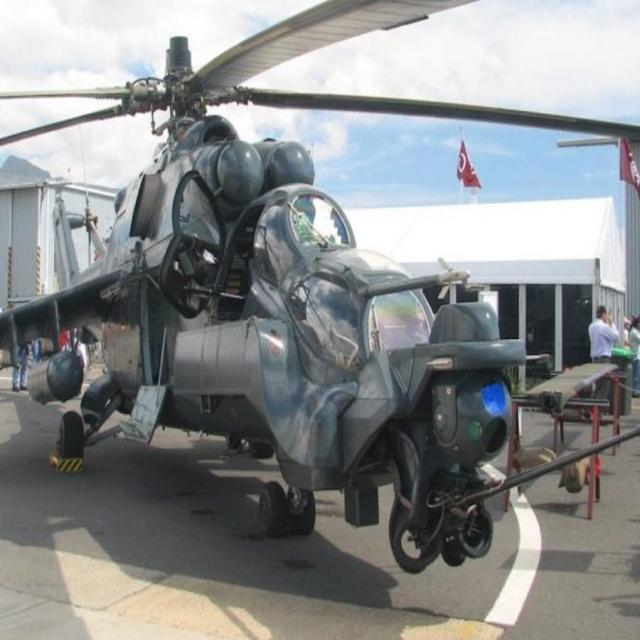helicopter: (1, 1, 640, 570)
